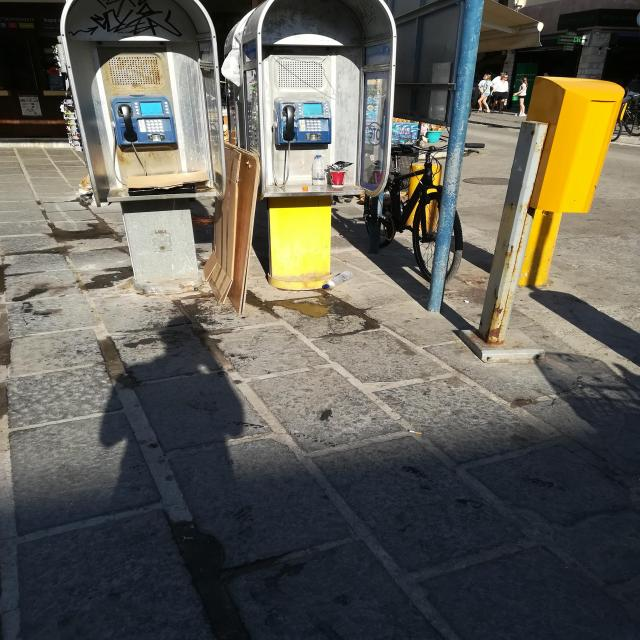Cigarette: (410, 429, 422, 434)
Clear plastic bottle: (323, 271, 354, 289), (312, 155, 325, 185)
Corrugated carton: (203, 149, 242, 304), (127, 170, 210, 190)
Disposable plastic cup: (329, 170, 346, 187)
Other plastic: (327, 161, 354, 170)
Plastic bottle cap: (302, 186, 308, 190), (324, 285, 329, 289), (316, 155, 322, 157)
Plastic film: (222, 49, 240, 87)
